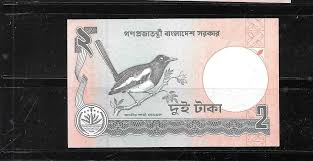2_taka: (75, 25, 271, 137)
